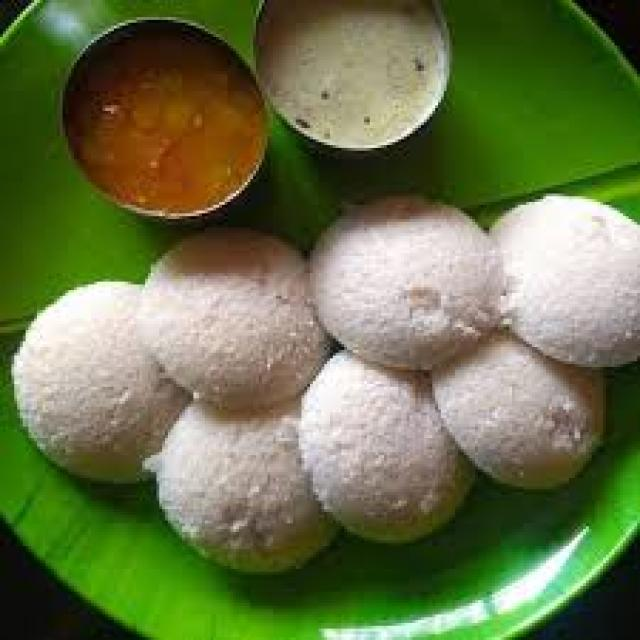IDLI: (11, 284, 188, 478), (139, 230, 327, 407), (310, 196, 498, 367), (302, 353, 472, 540), (159, 404, 333, 569), (432, 333, 600, 486), (489, 196, 637, 358)
